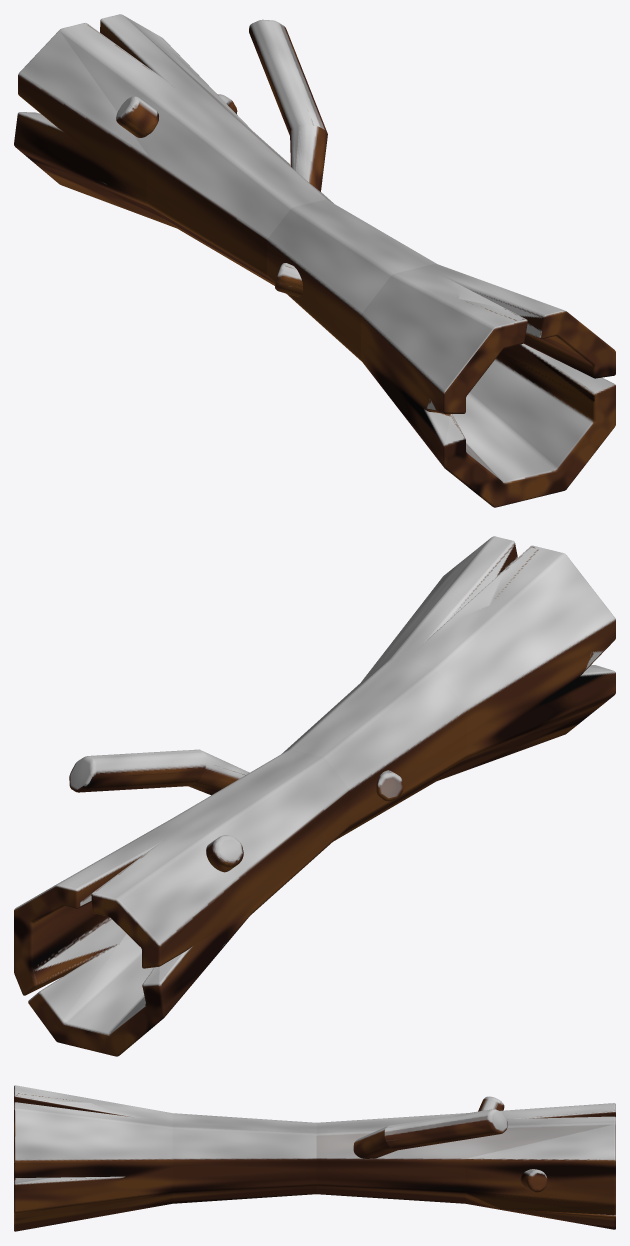
Rendered from LyingLog.fbx.
3 views of the same model, one above another, from view 1: azimuth 30°, elevation 25°; view 2: azimuth 150°, elevation 25°; view 3: azimuth 270°, elevation 25° (orthographic). The views are drawn at different scales.
Parts seen in each view (by area): view 1: Stamm; view 2: Stamm; view 3: Stamm.
Part boxes in pixels (x1,y1,x2,y2): Stamm: (14,14,615,507); Stamm: (14,536,615,1056); Stamm: (14,1085,615,1231).
Bounding box in the file's own units: 331 × 334 × 1316.
Materials: 1 (1 with a texture image).
